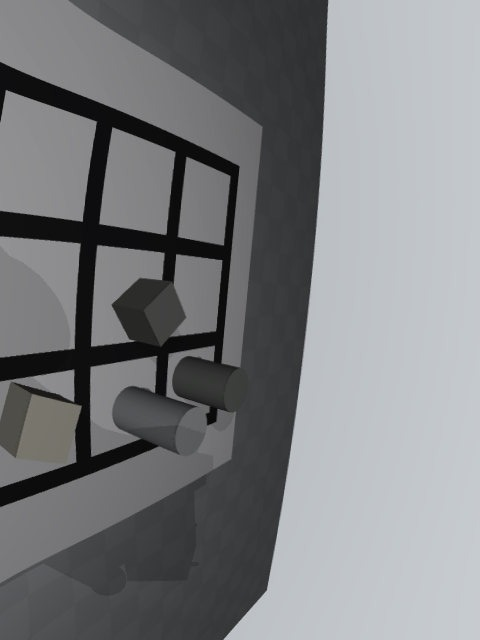can: (112, 386, 207, 456)
cube: (111, 278, 186, 347)
cylinder: (172, 356, 248, 413)
foam: (0, 382, 82, 464)
